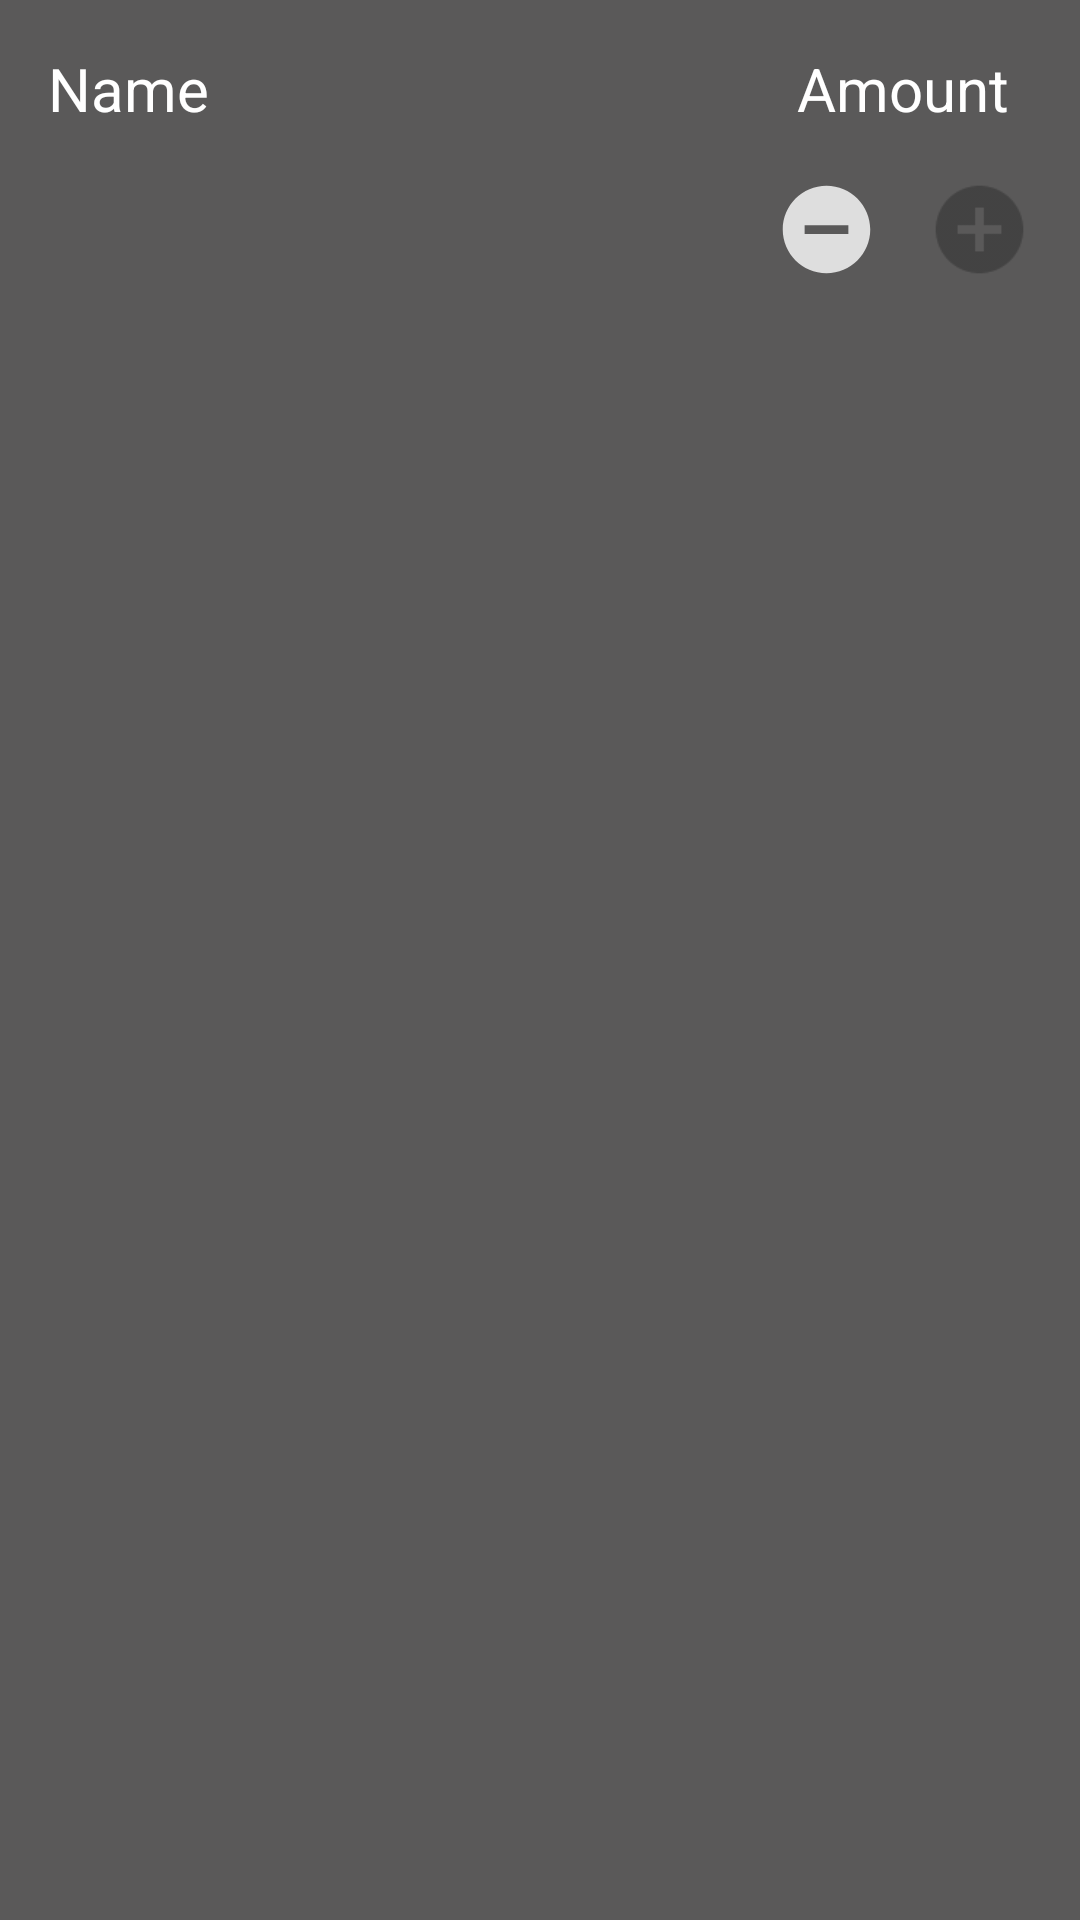

Icons on this 1080px×1920px Android screen, each with its box as Rect(x1, y1, x2, y2):
minus one: Rect(782, 185, 871, 274)
